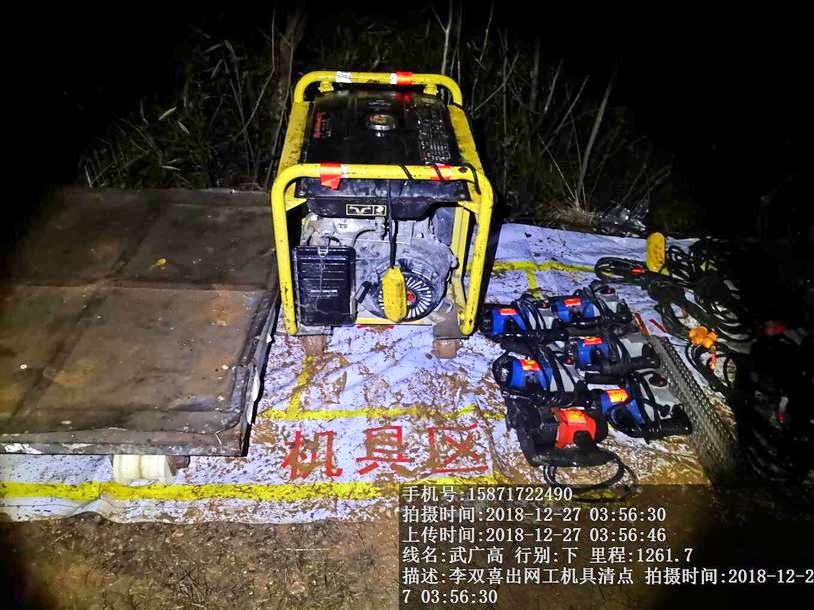DJ: (260, 58, 485, 346)
DZ: (507, 384, 617, 478), (599, 352, 687, 439)
